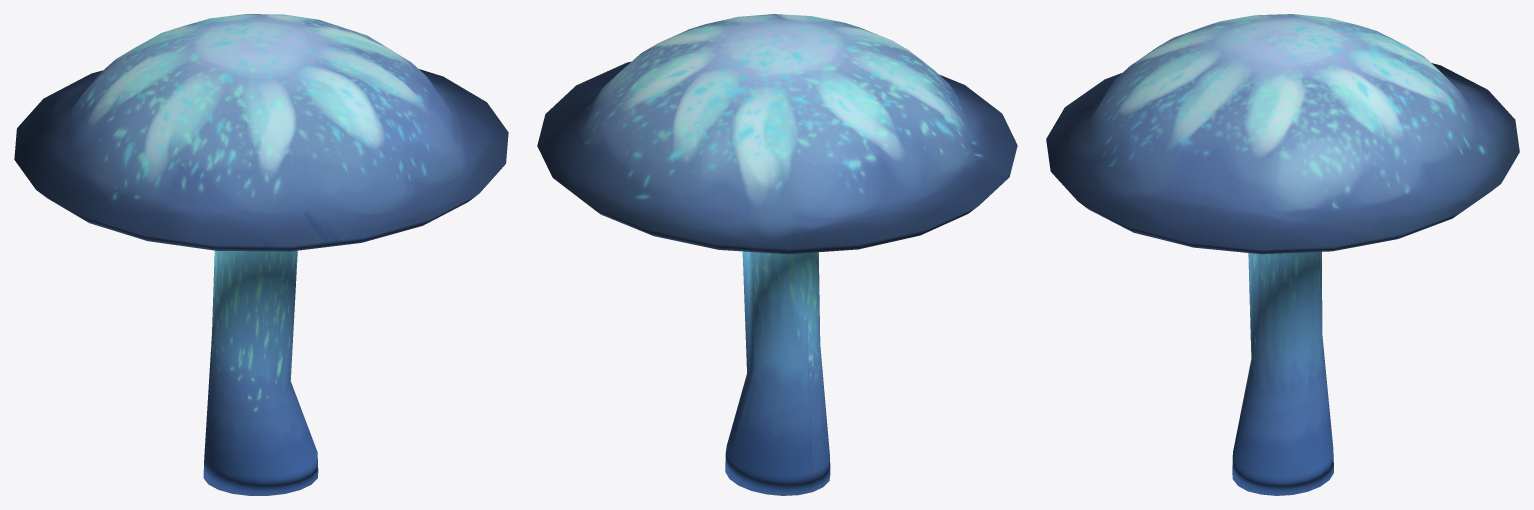
Rendered from flatShroom.fbx.
3 views of the same model, side by side, from view 1: azimuth 30°, elevation 25°; view 2: azimuth 150°, elevation 25°; view 3: azimuth 270°, elevation 25° (orthographic).
Parts seen in each view (by area): view 1: polySurface234; view 2: polySurface234; view 3: polySurface234.
Boxes of the visible parts, bbox=[...] form: polySurface234: bbox=[14, 14, 508, 495]; polySurface234: bbox=[537, 14, 1017, 495]; polySurface234: bbox=[1046, 14, 1519, 495].
Bounding box in the file's own units: 91.42 × 90.04 × 88.13.
